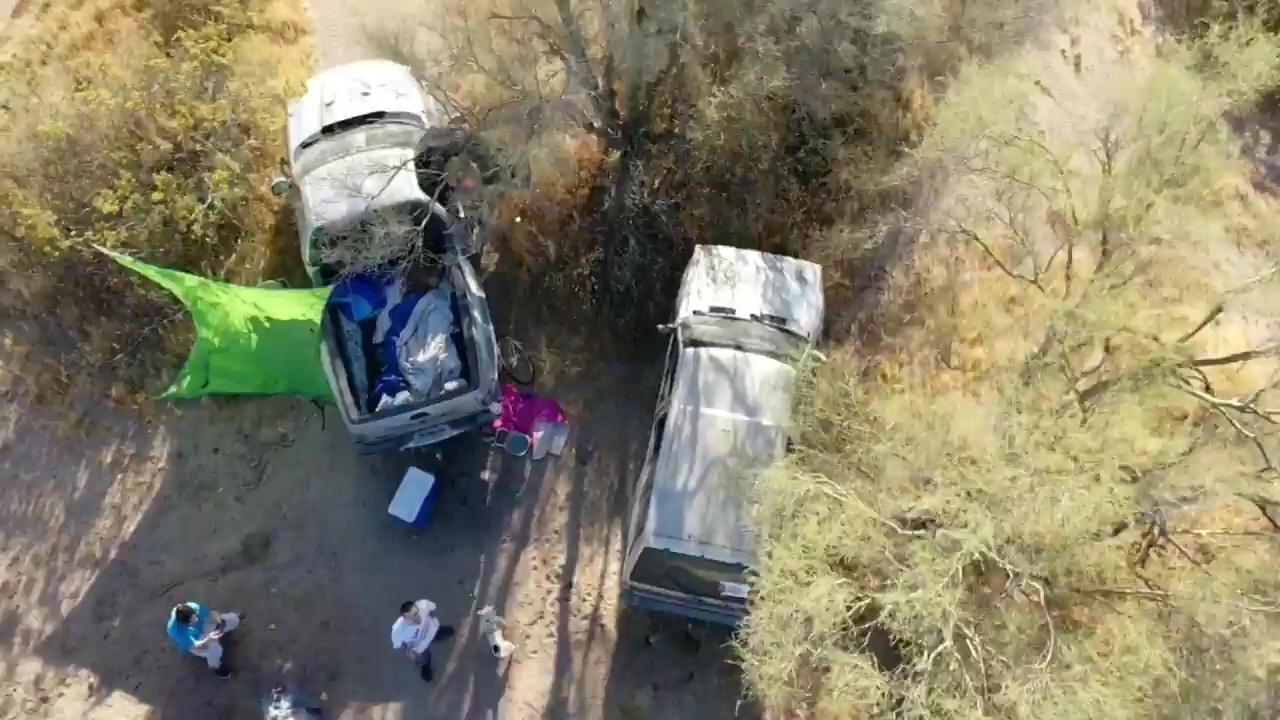araba: (613, 238, 841, 633)
insan: (162, 591, 247, 679), (386, 593, 447, 679)
kamyonet: (277, 55, 508, 460)
